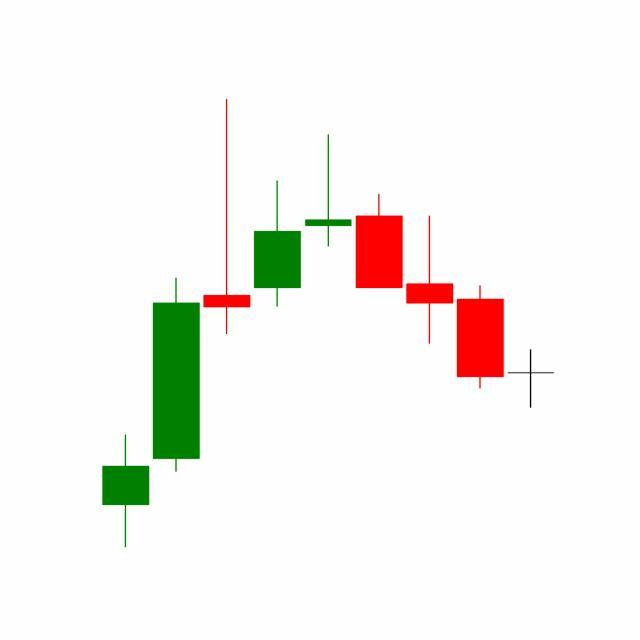Hikkake Pattern: (252, 132, 506, 392)
